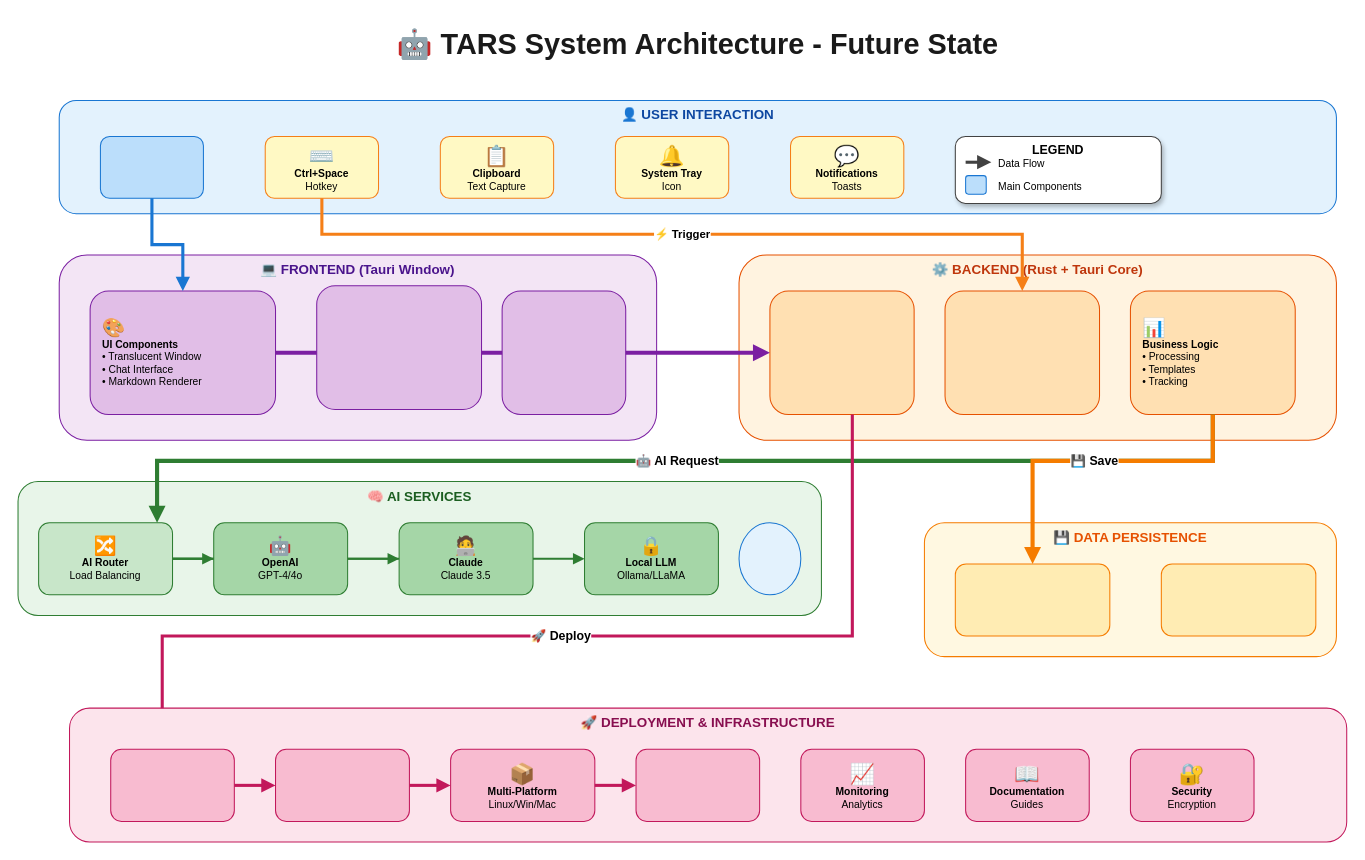
The diagram is 1365 pixels wide and 860 high, and some of its shapes have lost their labels. The centre of each missing label's shape, as x and y in pixels:
"☁️ External APIs" goes at pixel 769 558.
"⚡ Cache Offline Mode" goes at pixel 1238 599.
"⚡ Vite Dev Server • Hot Reload • Asset Bundling" goes at pixel 399 347.
"🎁 Distribution Releases" goes at pixel 697 784.
"🐳 Docker Container" goes at pixel 172 784.
"👤 User" goes at pixel 151 166.
"🔄 CI/CD GitHub Actions" goes at pixel 341 784.
"🖥️ System Integration • Hotkeys • Clipboard • Windows" goes at pixel 1022 352.
"🗂️ State Management" goes at pixel 563 352.
"🗄️ SQLite DB History & Settings" goes at pixel 1032 599.
"🦀 Tauri Core • IPC Bridge • Commands • Events" goes at pixel 841 352.
